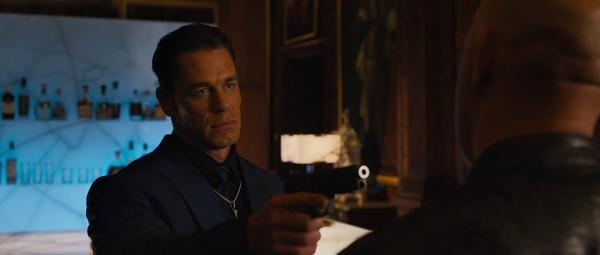Gun: (285, 162, 370, 195)
